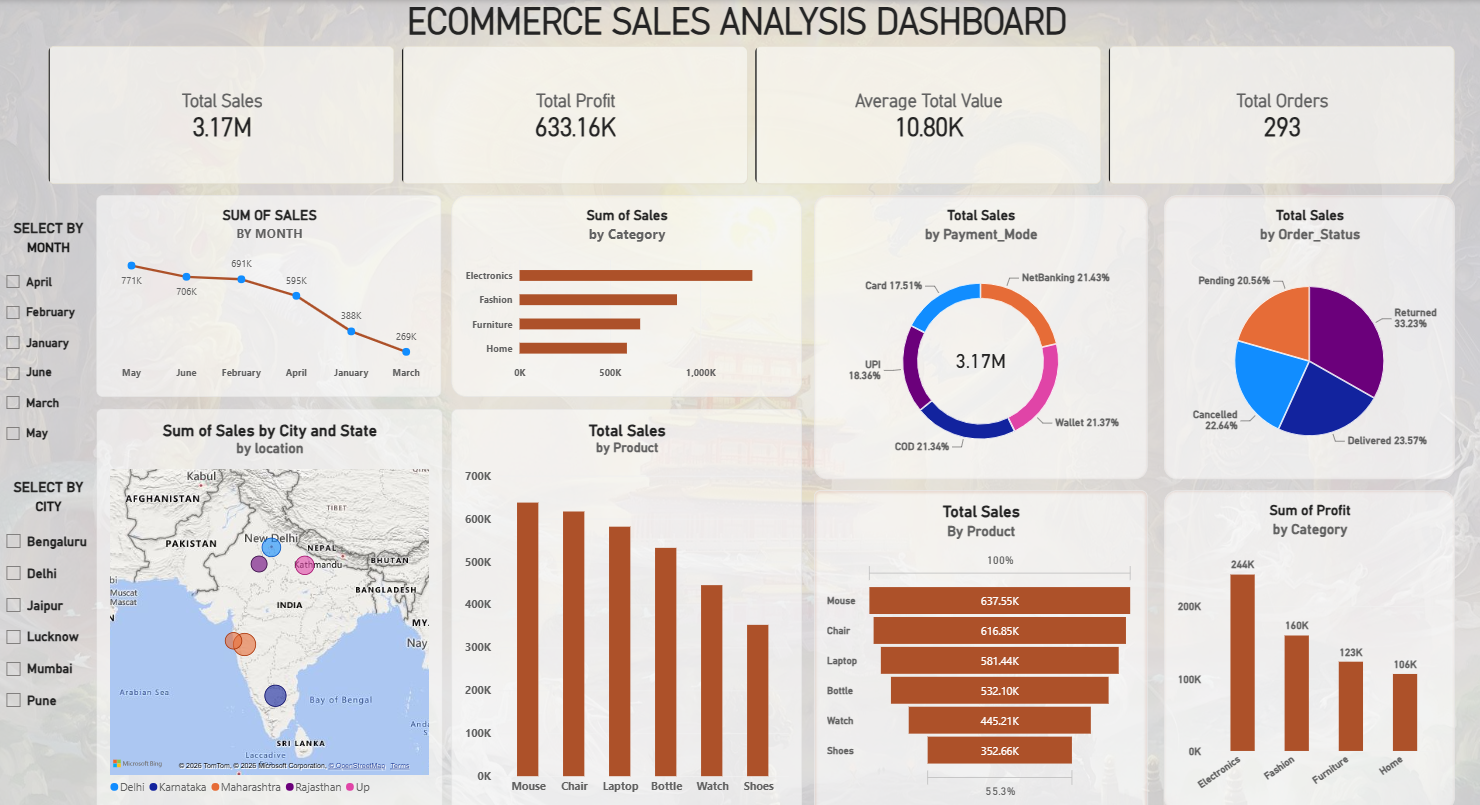

The dashboard page shown, as its layout file describes it:
{"tool":"powerbi","page":{"name":"Page 1","canvas":[1920,1080],"ordinal":0},"visuals":[{"type":"cardVisual","fields":{"Data":["dax measure.Total Sales","dax measure.Total Profit","dax measure.Average Total Value","dax measure.Total Orders"]},"box":[69.4,59.7,1816.1,180.6],"z":0},{"type":"textbox","box":[80.9,0,1756.4,61.1],"z":1000},{"type":"lineChart","title":"SUM OF SALES","fields":{"Category":["ecommerce orders.month"],"Y":["Sum(ecommerce orders.Sales)"]},"box":[132.3,253.2,445.2,259.7],"z":2000},{"type":"barChart","fields":{"Category":["ecommerce orders.Category"],"Y":["Sum(ecommerce orders.Sales)"]},"box":[590.3,253.2,451.6,259.7],"z":3000},{"type":"columnChart","fields":{"Category":["ecommerce orders.Product"],"Y":["dax measure.Total Sales"]},"box":[590.6,528.3,452,519],"z":4000},{"type":"map","fields":{"Category":["ecommerce orders.City"],"Series":["ecommerce orders.State"],"Size":["Sum(ecommerce orders.Sales)"]},"box":[132.1,528.3,446,519],"z":5000},{"type":"donutChart","fields":{"Category":["ecommerce orders.Payment_Mode"],"Y":["dax measure.Total Sales"]},"box":[1058.5,252.8,430.2,366],"z":5001},{"type":"columnChart","fields":{"Category":["ecommerce orders.Category"],"Y":["Sum(ecommerce orders.Profit)"]},"box":[1509.4,634,375.5,413.2],"z":5002},{"type":"funnel","title":"Total Sales","fields":{"Category":["ecommerce orders.Product"],"Y":["dax measure.Total Sales"]},"box":[1058.5,634,430.2,413.2],"z":5003},{"type":"slicer","title":"SELECT BY","fields":{"Values":["ecommerce orders.month"]},"box":[7.5,284.9,124.5,301.9],"z":5004},{"type":"pieChart","fields":{"Category":["ecommerce orders.Order_Status"],"Y":["dax measure.Total Sales"]},"box":[1509.4,252.8,375.5,366],"z":5005},{"type":"slicer","title":"SELECT BY ","fields":{"Values":["ecommerce orders.City"]},"box":[7.5,618.9,124.5,317],"z":5006}]}

Visuals, with their boxes on the page's 1920x1080 design canvas (x1, y1, x2, y2). These are canvas units, not pixel positions in the 1480x805 screenshot, which may show the page scaled, cropped or inside an application window:
cardVisual - dax measure.Total Sales x dax measure.Total Profit: (69,60,1886,240)
textbox: (81,0,1837,61)
"SUM OF SALES" lineChart: (132,253,578,513)
barChart - ecommerce orders.Category x Sum(ecommerce orders.Sales): (590,253,1042,513)
columnChart - ecommerce orders.Product x dax measure.Total Sales: (591,528,1043,1047)
map - ecommerce orders.City x ecommerce orders.State: (132,528,578,1047)
donutChart - ecommerce orders.Payment_Mode x dax measure.Total Sales: (1058,253,1489,619)
columnChart - ecommerce orders.Category x Sum(ecommerce orders.Profit): (1509,634,1885,1047)
"Total Sales" funnel: (1058,634,1489,1047)
"SELECT BY" slicer: (8,285,132,587)
pieChart - ecommerce orders.Order_Status x dax measure.Total Sales: (1509,253,1885,619)
"SELECT BY " slicer: (8,619,132,936)
